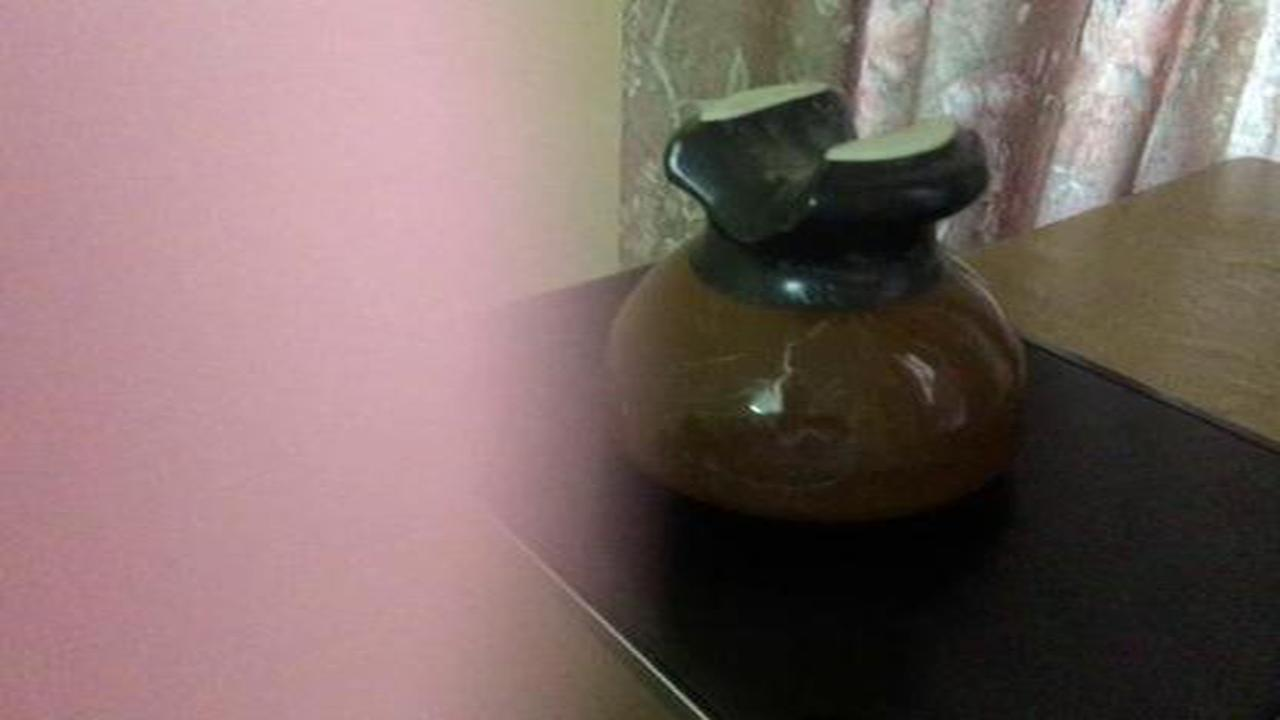insulator_pin: (610, 69, 1059, 532)
